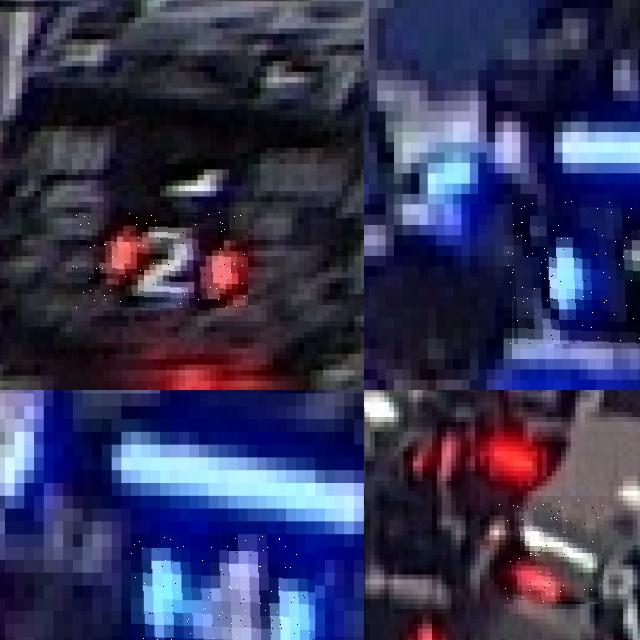B1: (508, 199, 640, 343)
B4: (131, 534, 315, 640)
R1: (499, 496, 604, 604), (594, 584, 640, 640)
R2: (72, 210, 248, 308)
